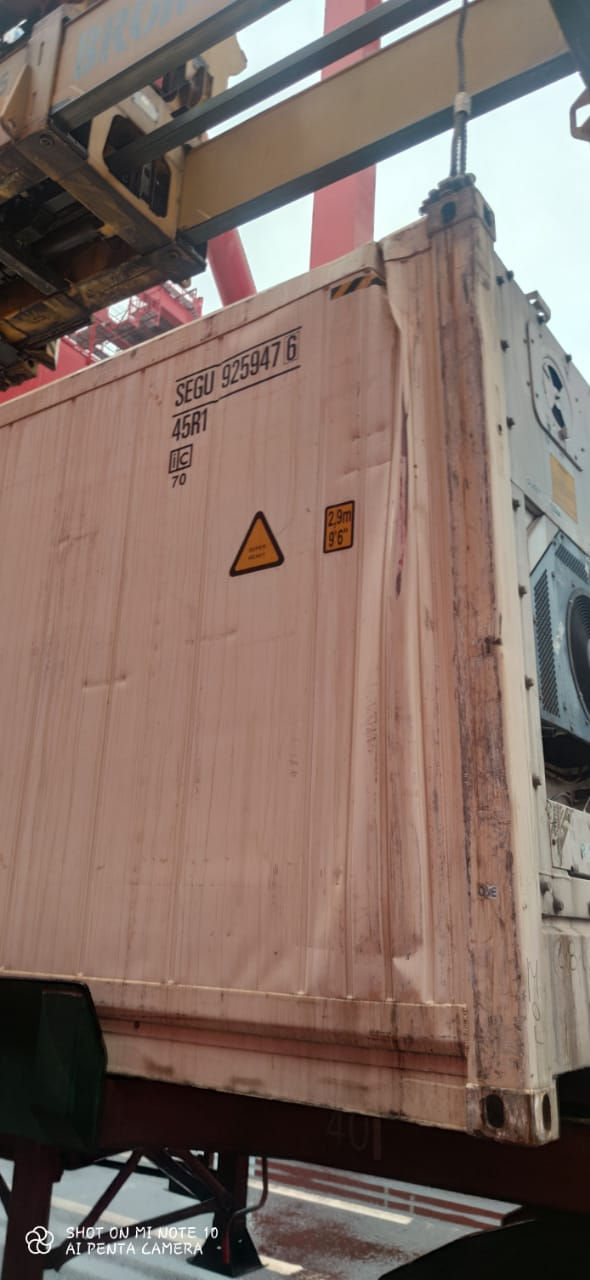bulged: (319, 559, 448, 1011)
dented: (329, 251, 445, 515)
